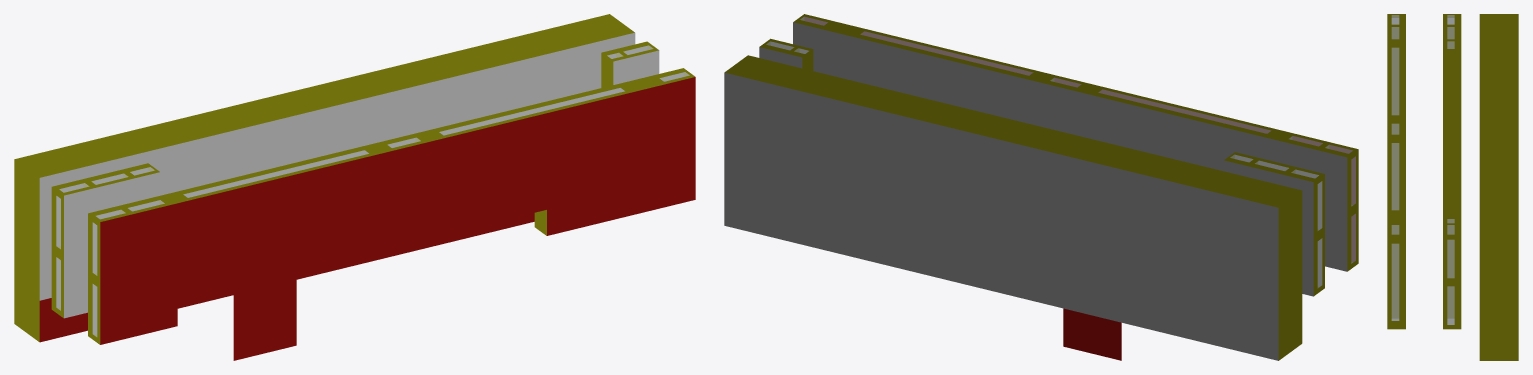
Rendered from idf.obj.
The picture shows the model from 3 angles, left to right: view 1: azimuth 30°, elevation 25°; view 2: azimuth 150°, elevation 25°; view 3: azimuth 270°, elevation 25°; orthographic projection. The views are drawn at different scales.
Size of the model in its own units: 86.56 by 32 by 21.64.
